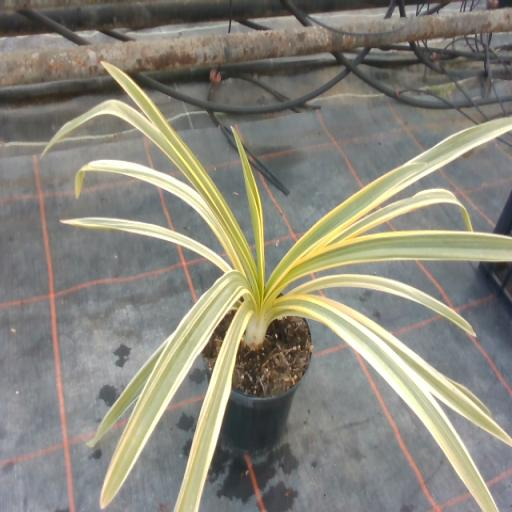Agapanthus-praecox: (273, 298, 497, 511), (267, 119, 511, 291), (102, 62, 259, 290), (100, 271, 246, 507), (174, 302, 252, 511), (76, 160, 227, 252), (284, 231, 511, 285), (289, 274, 474, 334), (87, 335, 171, 446), (43, 100, 182, 165), (62, 218, 230, 271), (342, 189, 472, 238), (232, 130, 264, 308)
